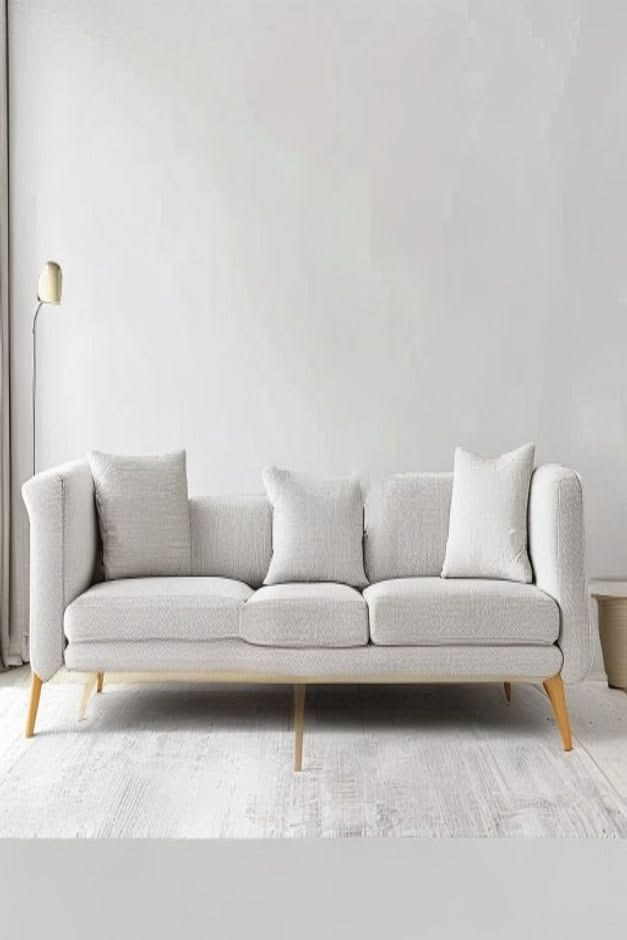3seatersofa: (23, 444, 589, 770), (24, 443, 585, 770)
base: (66, 640, 560, 678)
leftarmrest: (529, 465, 591, 680)
leg: (544, 675, 570, 750), (25, 672, 42, 738), (294, 685, 305, 771), (505, 682, 511, 703), (97, 673, 103, 693)
pillow: (441, 445, 533, 582), (90, 451, 190, 577), (264, 467, 364, 585)
rightarmrest: (23, 462, 97, 680)
seat: (65, 578, 557, 648)
